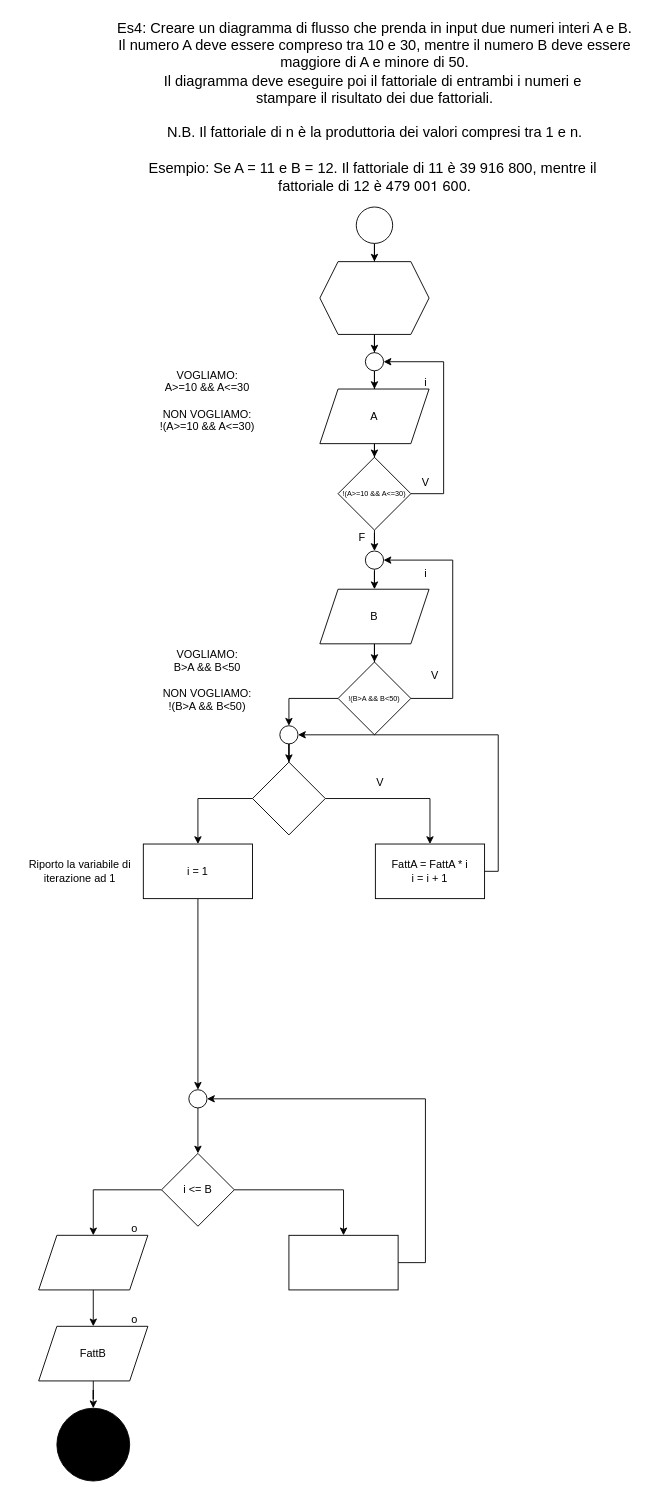
Image size: 658x1497. Some labels were removed from this diagram. Here are the shapes that lost their labels. From the top down, the box of each, then its label:
(319, 261, 429, 334): A, B, FattA = 1, FattB = 1, i = 1
(252, 761, 325, 835): i <= A
(38, 1234, 148, 1290): FattA
(288, 1234, 398, 1290): FattB = FattB * i i = i + 1
